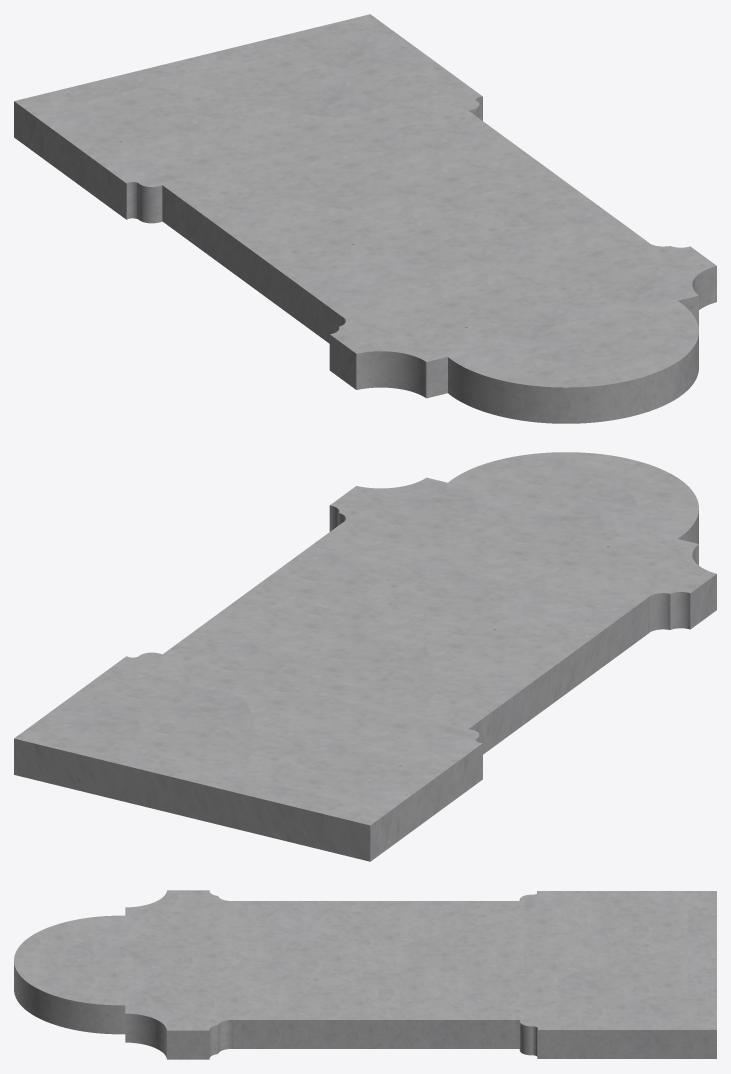
3 views of the same model, one above another, from view 1: azimuth 30°, elevation 25°; view 2: azimuth 150°, elevation 25°; view 3: azimuth 270°, elevation 25° (orthographic). The views are drawn at different scales.
Parts seen in each view (by area): view 1: PA-24-F_LOD0; view 2: PA-24-F_LOD0; view 3: PA-24-F_LOD0.
Part boxes in pixels (x1,y1,x2,y2): PA-24-F_LOD0: (14, 14, 716, 423); PA-24-F_LOD0: (14, 452, 716, 861); PA-24-F_LOD0: (14, 890, 716, 1059).
Size of what is drawn, in the model's own units: 697 by 67.06 by 1474.
1 material, 1 textured.
